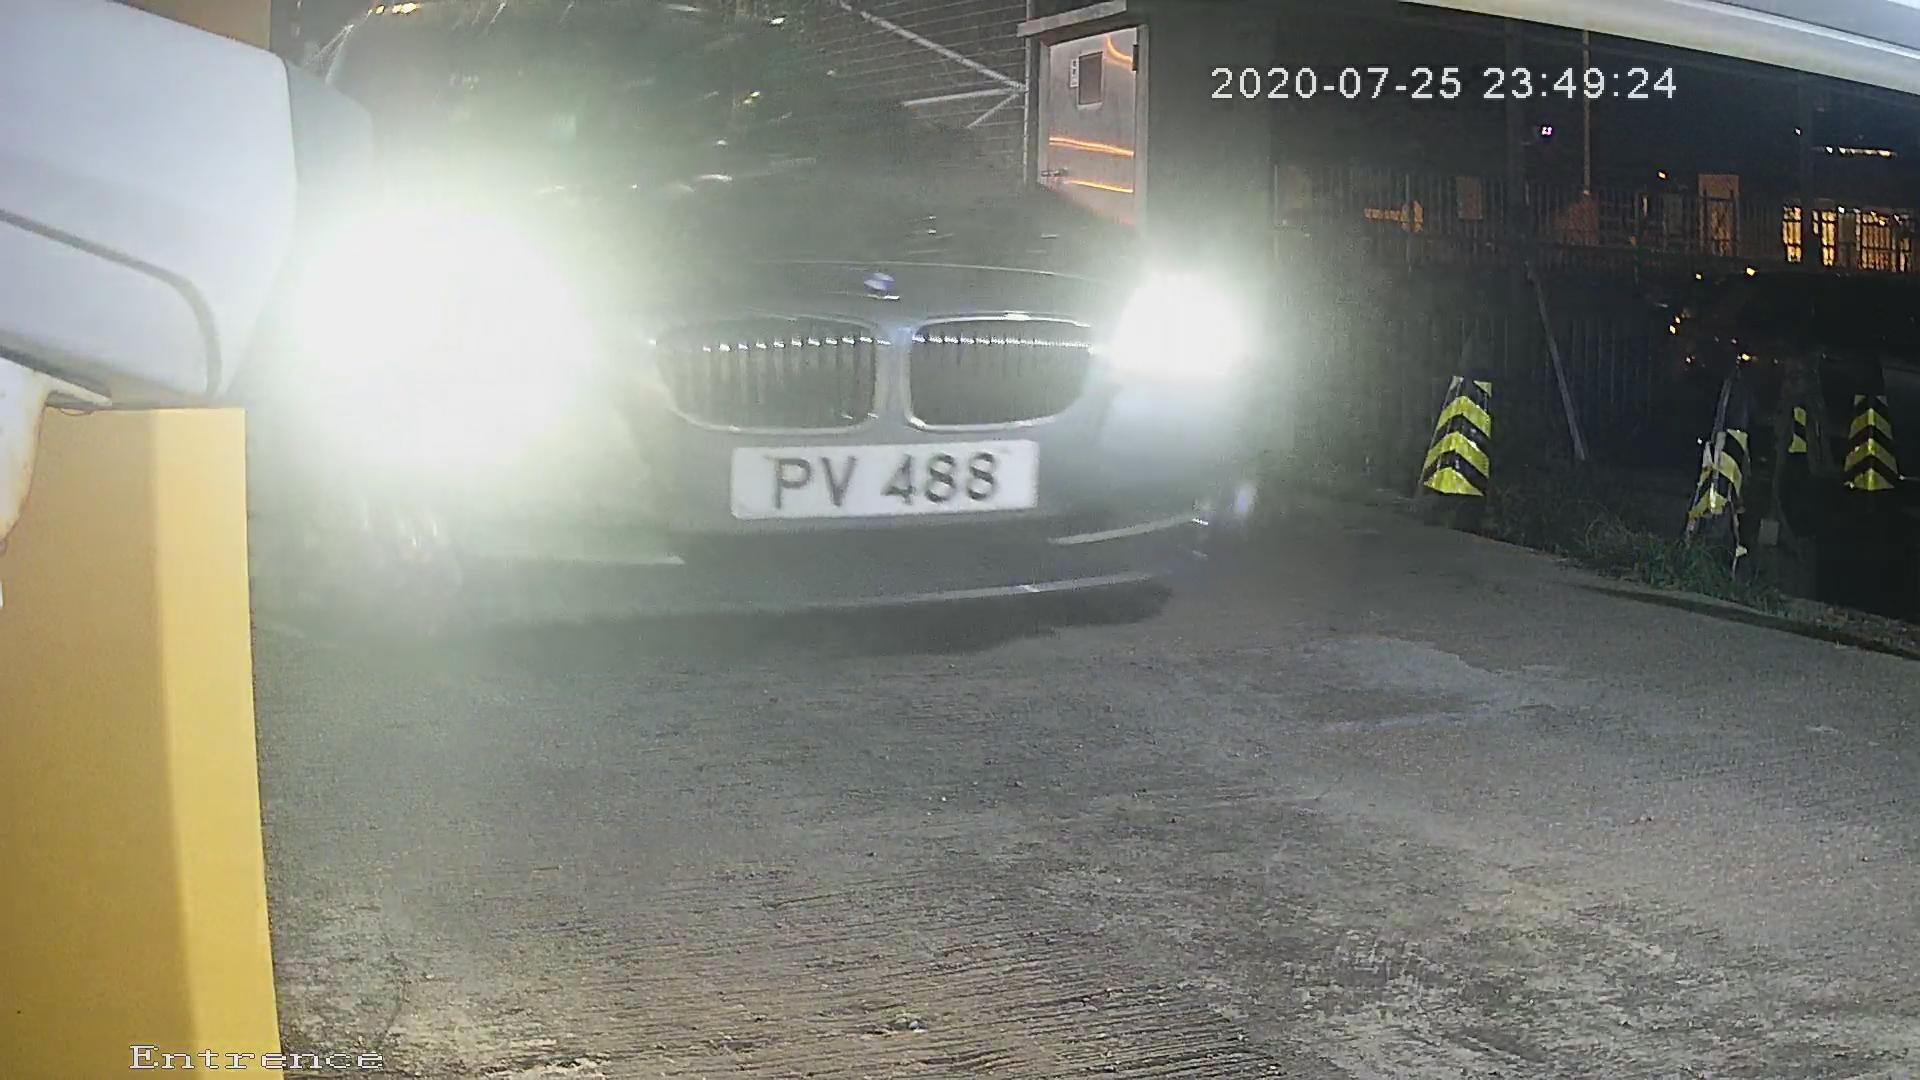privatecar: (189, 1, 1509, 690)
